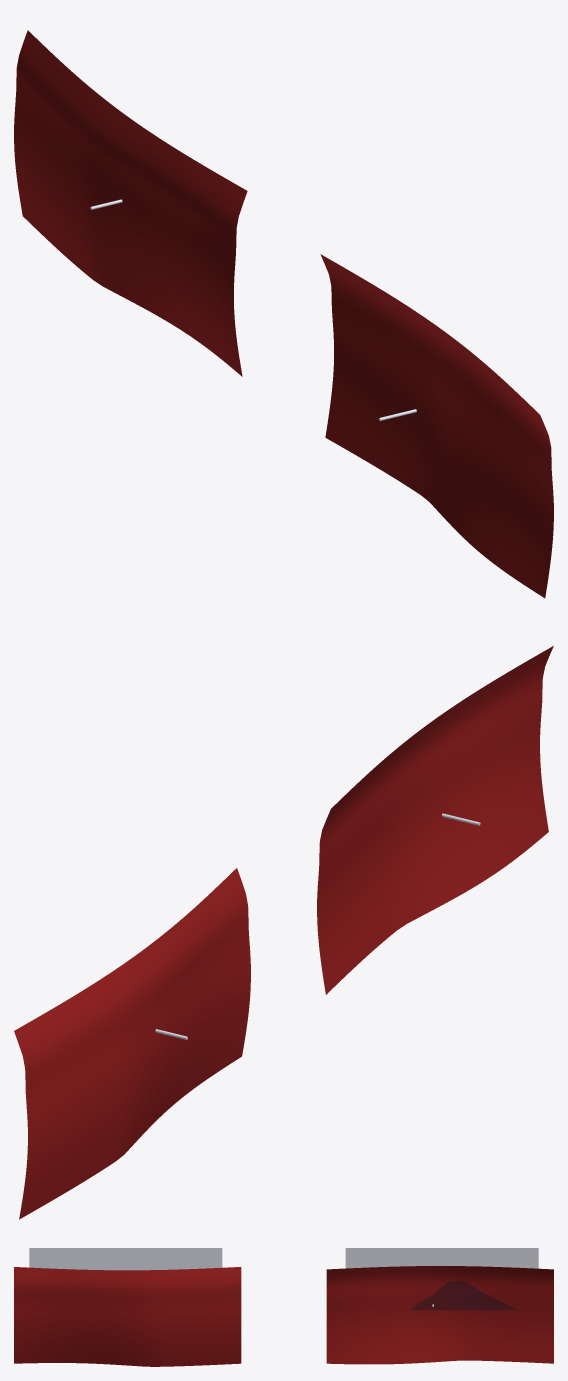
Rendered from doors_butterfly_pair.glb.
The picture shows the model from 3 angles, top to bottom: view 1: azimuth 30°, elevation 25°; view 2: azimuth 150°, elevation 25°; view 3: azimuth 270°, elevation 25°; orthographic projection. The views are drawn at different scales.
Parts seen in each view (by area): view 1: Butterfly_Door_Assembly_LH, Butterfly_Door_Assembly_RH; view 2: Butterfly_Door_Assembly_LH, Butterfly_Door_Assembly_RH; view 3: Butterfly_Door_Assembly_RH, Butterfly_Door_Assembly_LH.
Boxes of the visible parts, x1=… form: Butterfly_Door_Assembly_LH: x1=14, y1=30, x2=247, y2=376; Butterfly_Door_Assembly_RH: x1=320, y1=254, x2=553, y2=598; Butterfly_Door_Assembly_LH: x1=14, y1=868, x2=250, y2=1219; Butterfly_Door_Assembly_RH: x1=317, y1=646, x2=553, y2=994; Butterfly_Door_Assembly_RH: x1=14, y1=1248, x2=241, y2=1366; Butterfly_Door_Assembly_LH: x1=326, y1=1248, x2=553, y2=1364.
Size of the model in its own units: 0.2304 by 0.6785 by 2.97.
